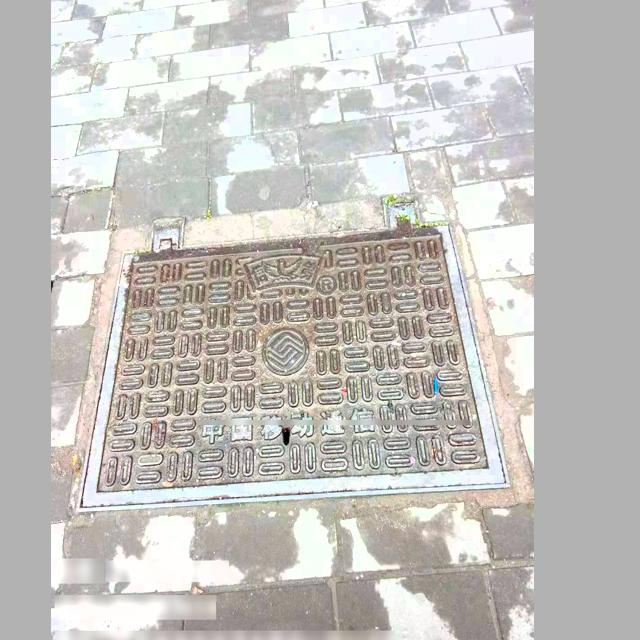good: (75, 196, 513, 510)
